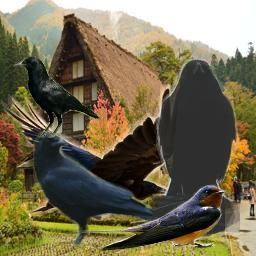Crow: (1, 83, 198, 221), (33, 130, 177, 247), (152, 59, 240, 240), (13, 56, 100, 138)
Swallow: (70, 184, 226, 251)
